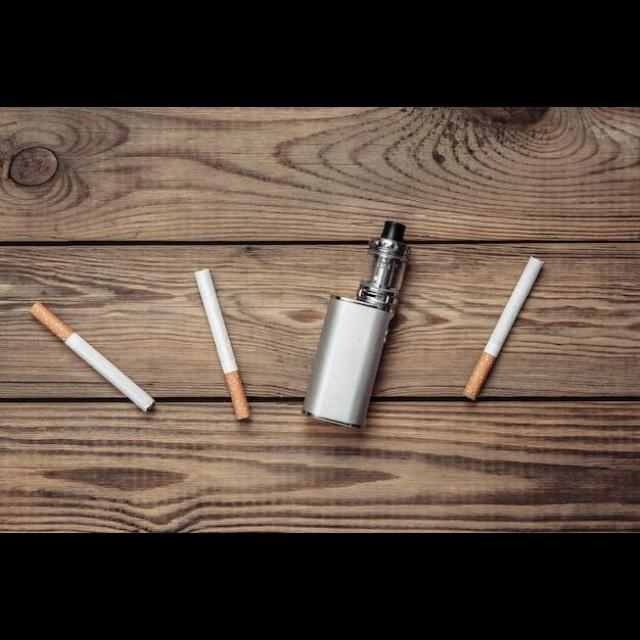rokok: (24, 299, 160, 417), (461, 254, 545, 404), (188, 262, 255, 426)
